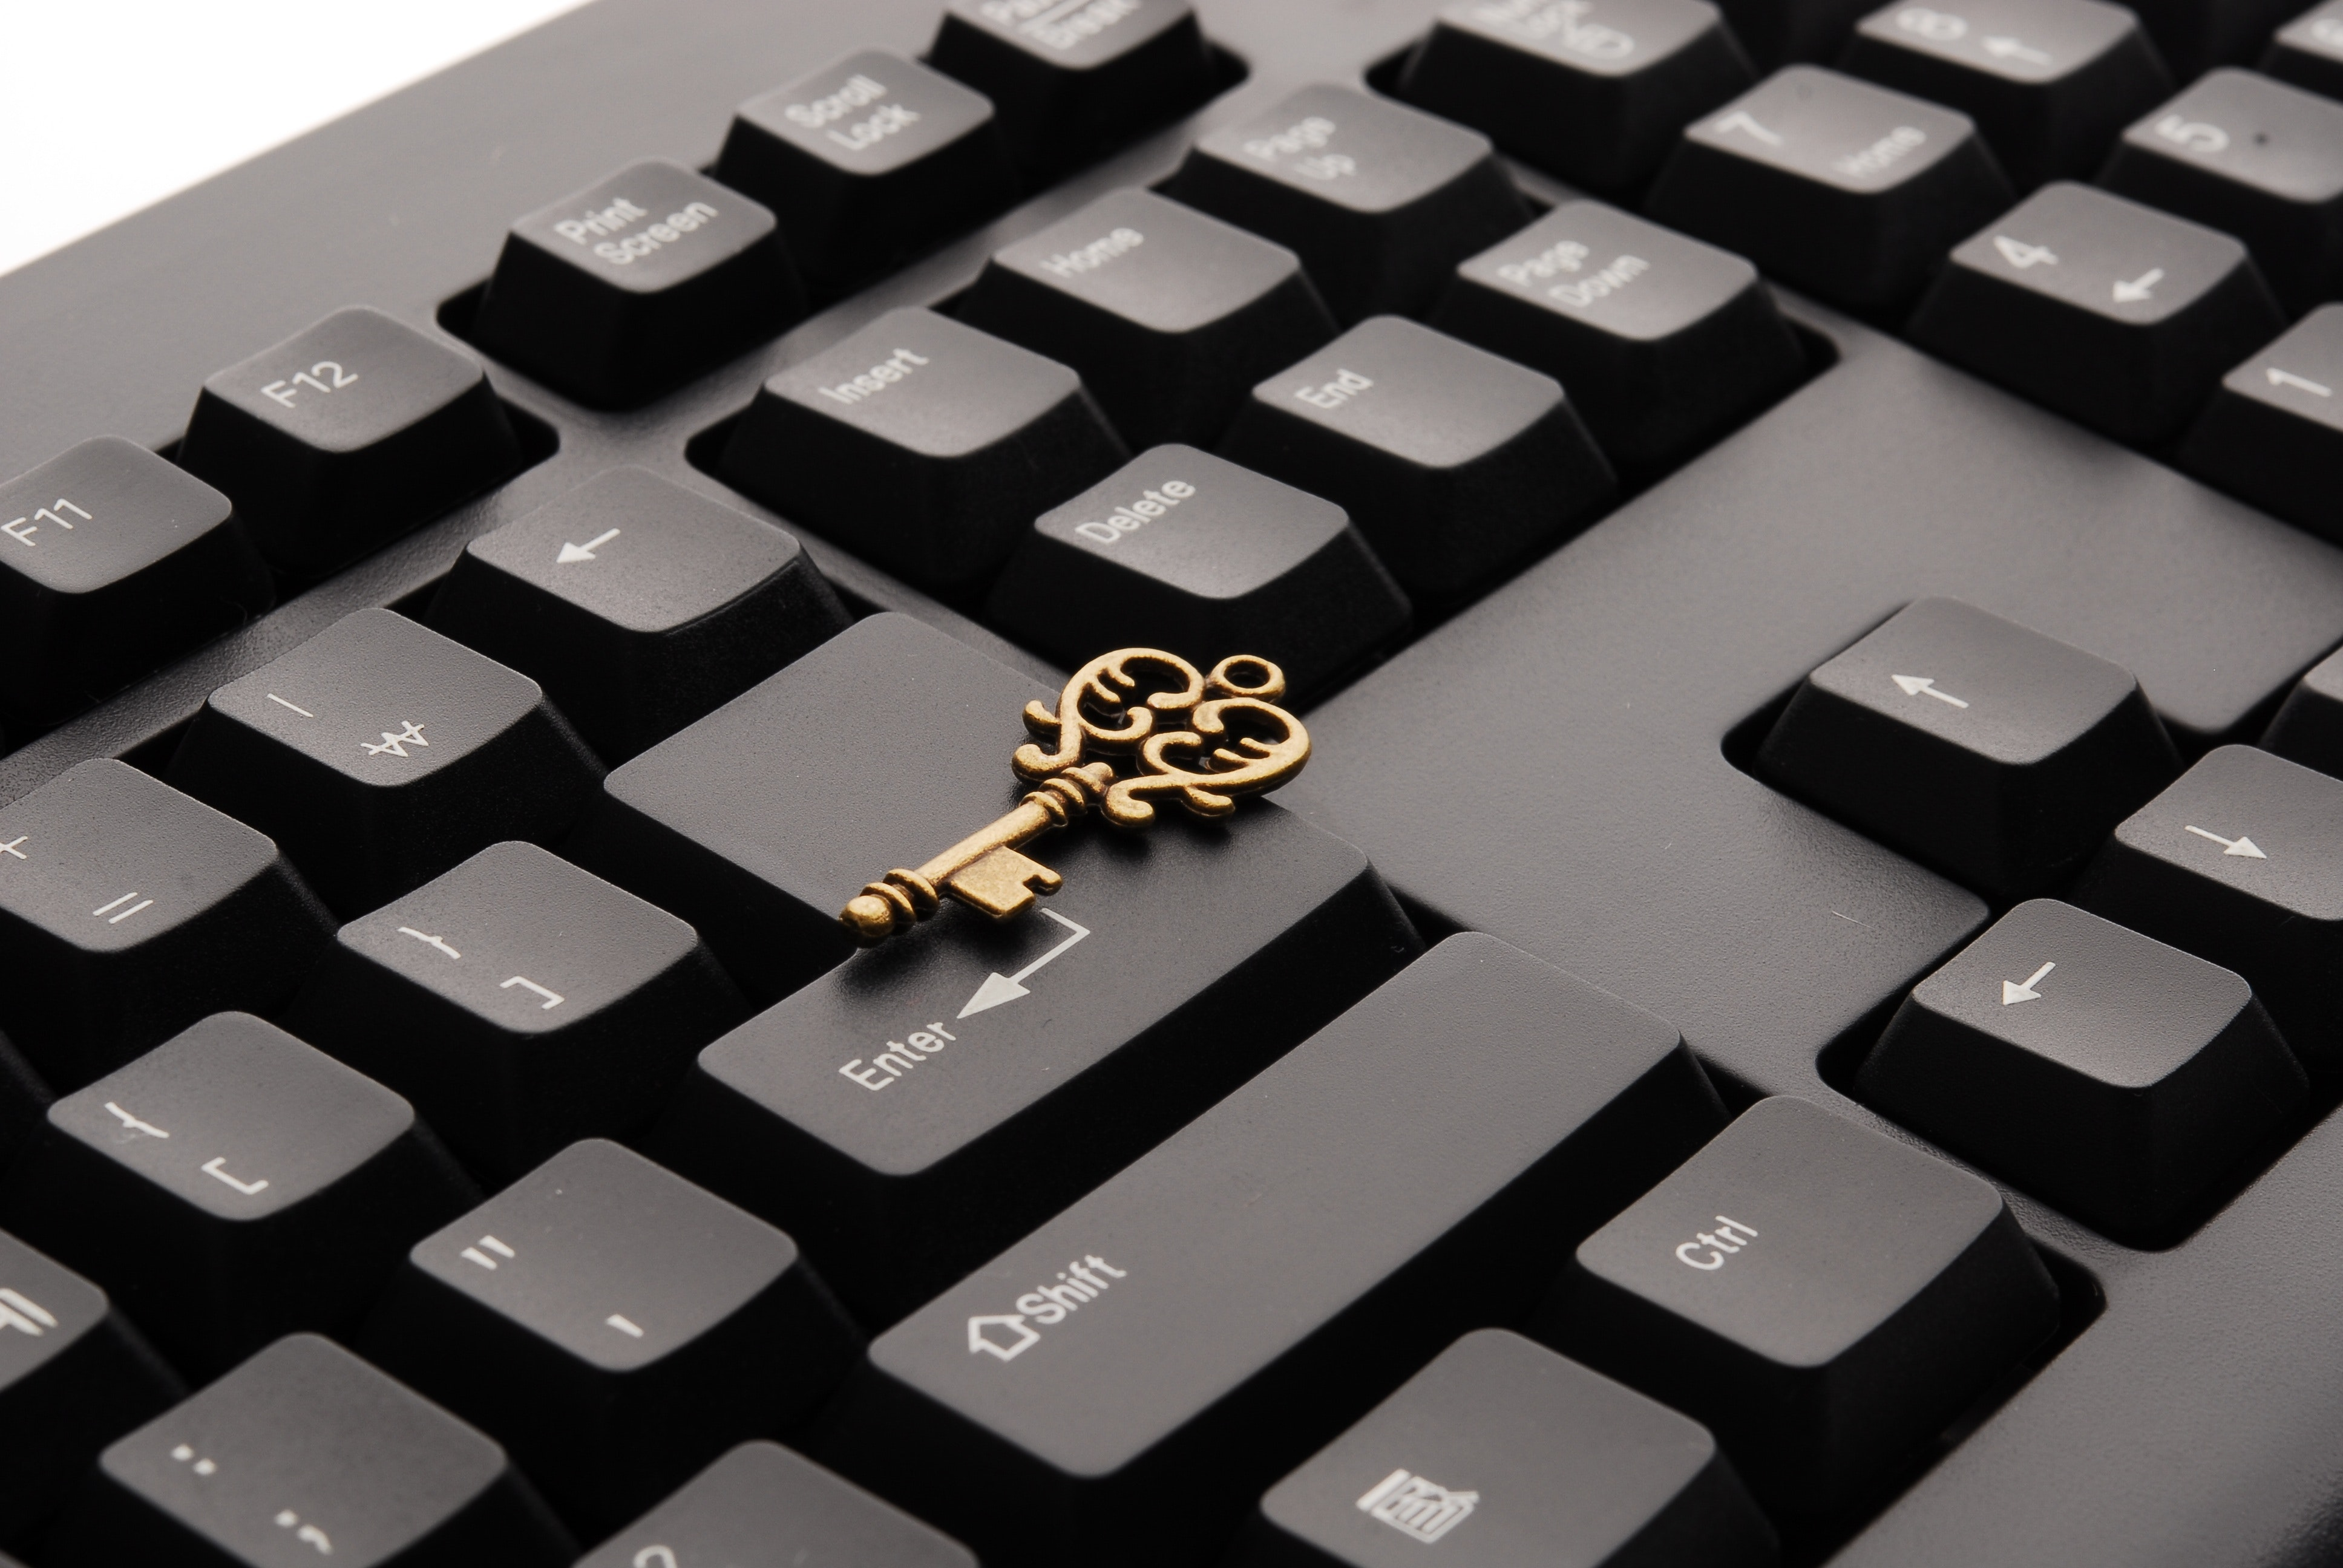key: (829, 593, 1409, 978)
